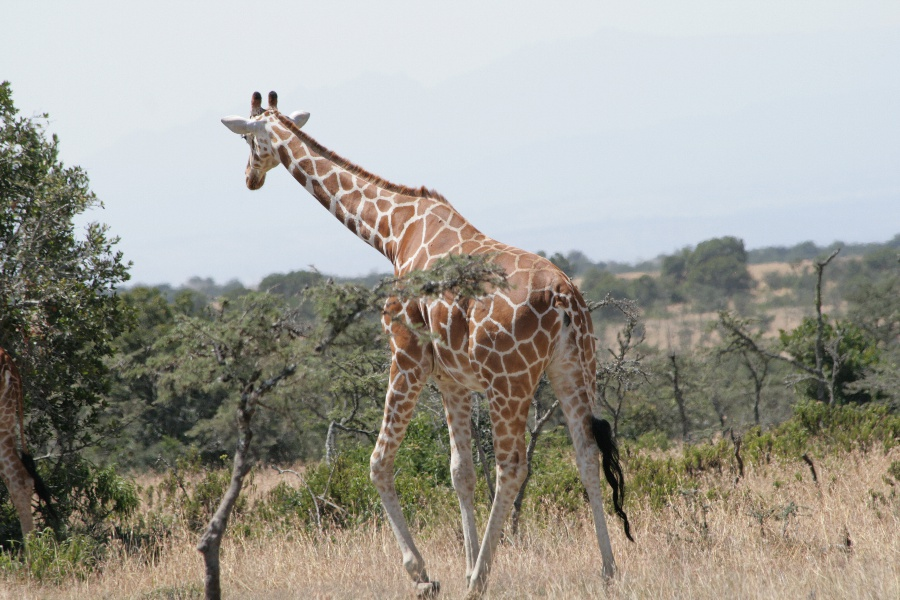giraffe: (212, 81, 630, 586)
